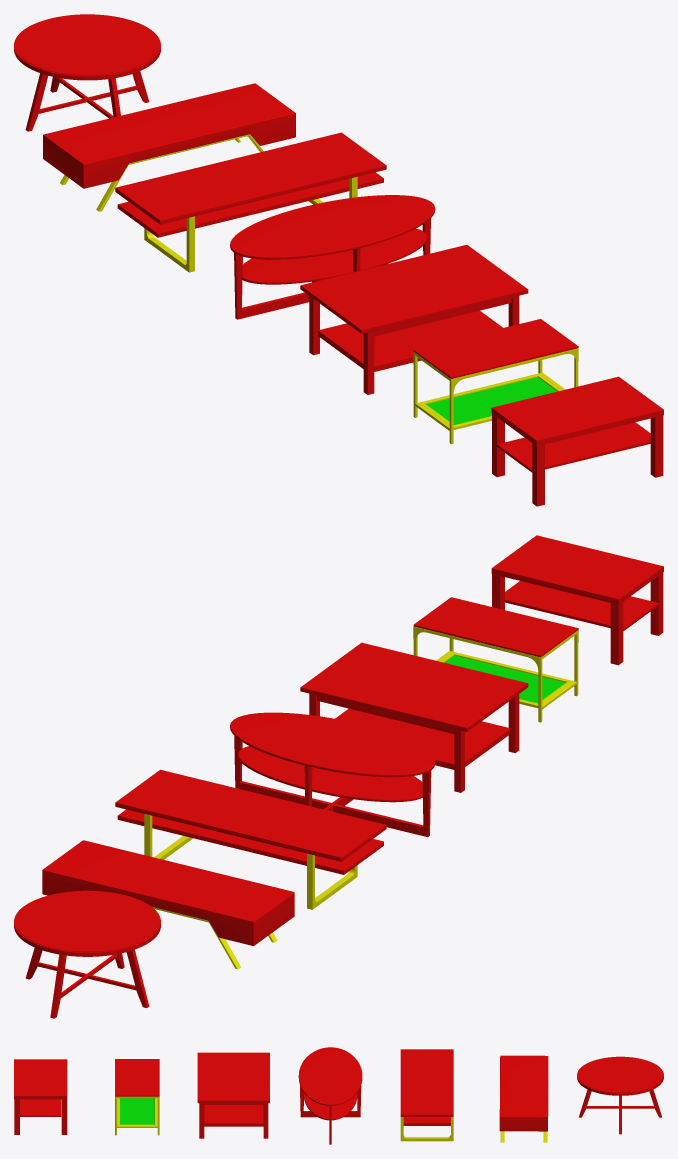
Rendered from thorkea_coffee_tables_grp.fbx.
The picture shows the model from 3 angles, top to bottom: view 1: azimuth 30°, elevation 25°; view 2: azimuth 150°, elevation 25°; view 3: azimuth 270°, elevation 25°; orthographic projection. The views are drawn at different scales.
Parts seen in each view (by area): view 1: thorkea_coffee_table_hemnes, thorkea_coffee_table_lisabo, thorkea_coffee_table_vejmon, thorkea_coffee_table_bankas, thorkea_coffee_table_lack, thorkea_coffee_table_fjallbo, thorkea_coffee_table_kragsta; view 2: thorkea_coffee_table_hemnes, thorkea_coffee_table_lisabo, thorkea_coffee_table_vejmon, thorkea_coffee_table_bankas, thorkea_coffee_table_lack, thorkea_coffee_table_kragsta, thorkea_coffee_table_fjallbo; view 3: thorkea_coffee_table_hemnes, thorkea_coffee_table_lisabo, thorkea_coffee_table_vejmon, thorkea_coffee_table_bankas, thorkea_coffee_table_kragsta, thorkea_coffee_table_lack, thorkea_coffee_table_fjallbo.
Boxes of the visible parts, <box> form: thorkea_coffee_table_hemnes: <box>300,244,528,394</box>; thorkea_coffee_table_lisabo: <box>115,132,386,272</box>; thorkea_coffee_table_vejmon: <box>230,195,435,319</box>; thorkea_coffee_table_bankas: <box>43,83,295,211</box>; thorkea_coffee_table_lack: <box>491,376,663,506</box>; thorkea_coffee_table_fjallbo: <box>413,319,578,444</box>; thorkea_coffee_table_kragsta: <box>14,14,160,131</box>; thorkea_coffee_table_hemnes: <box>300,642,528,792</box>; thorkea_coffee_table_lisabo: <box>115,769,386,909</box>; thorkea_coffee_table_vejmon: <box>230,712,435,837</box>; thorkea_coffee_table_bankas: <box>42,840,294,969</box>; thorkea_coffee_table_lack: <box>491,535,663,665</box>; thorkea_coffee_table_kragsta: <box>14,890,160,1018</box>; thorkea_coffee_table_fjallbo: <box>413,597,578,722</box>; thorkea_coffee_table_hemnes: <box>197,1052,269,1138</box>; thorkea_coffee_table_lisabo: <box>400,1049,453,1141</box>; thorkea_coffee_table_vejmon: <box>298,1047,362,1144</box>; thorkea_coffee_table_bankas: <box>499,1055,548,1142</box>; thorkea_coffee_table_kragsta: <box>577,1056,663,1134</box>; thorkea_coffee_table_lack: <box>14,1059,67,1134</box>; thorkea_coffee_table_fjallbo: <box>115,1059,159,1135</box>.
Size of the model in its own units: 160 by 48.06 by 673.
